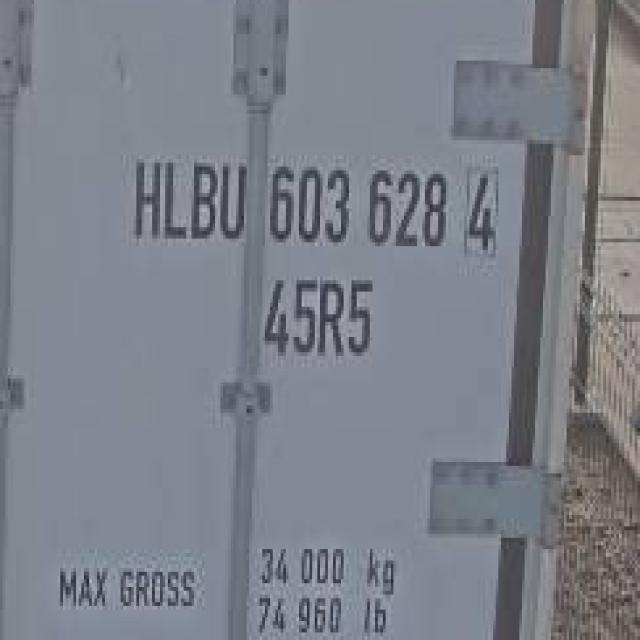dv: (460, 153, 506, 260)
owner: (127, 146, 249, 247)
serial: (258, 152, 454, 254)
size: (257, 268, 391, 370)
